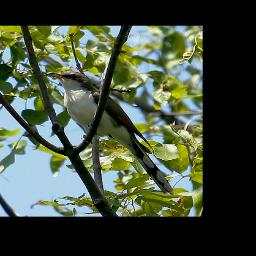Cuckoo: (43, 70, 175, 195)
